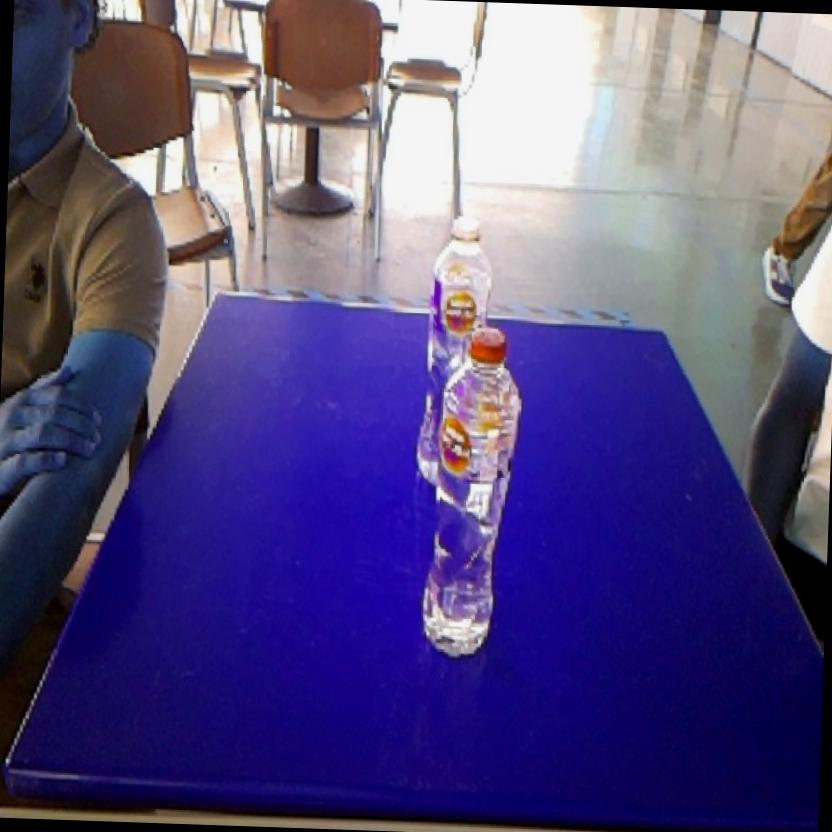good: (415, 320, 528, 677)
no_cap: (424, 206, 503, 328)
